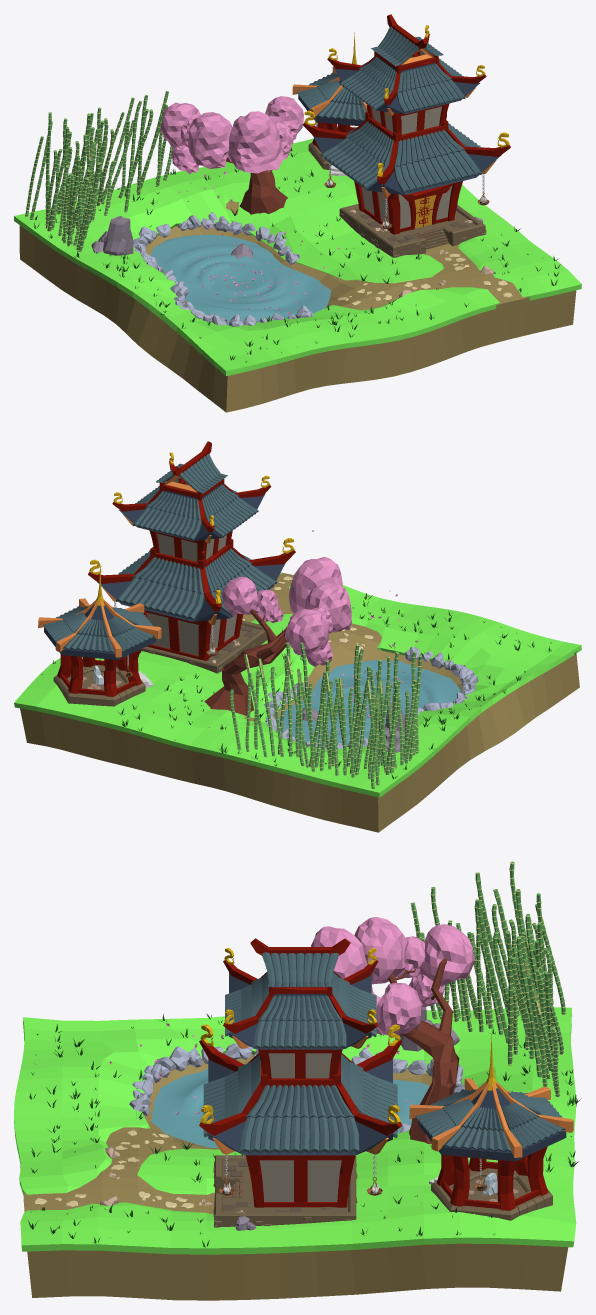
The model's file is temple.fbx.
3 renders of one model, top to bottom at view 1: azimuth 30°, elevation 25°; view 2: azimuth 150°, elevation 25°; view 3: azimuth 270°, elevation 25°, orthographic. The views are drawn at different scales.
Visible parts, largest first — view 1: Plane, Plane.002, Circle, Icosphere.007, Cube.026, Plane.001, Cube.027, Cube.041, Cube.025, Circle.010, arvore, Cube.009 (+6 smaller); view 2: Plane, Plane.002, Icosphere.007, Cube.026, Plane.001, Circle, Cube.027, Circle.010, arvore, Circle.005, Cube.041, Circle.004 (+8 smaller); view 3: Plane, Plane.002, Cube.026, Plane.001, Icosphere.007, Cube.027, Circle.010, Circle, Cube.025, Circle.005, arvore, Cube.009 (+14 smaller).
Part boxes in pixels (x1,y1,x2,y2): Plane: [14, 127, 581, 376]; Plane.002: [19, 200, 576, 412]; Circle: [150, 234, 331, 325]; Icosphere.007: [160, 96, 303, 174]; Cube.026: [320, 121, 481, 193]; Plane.001: [303, 14, 510, 234]; Cube.027: [339, 57, 465, 113]; Cube.041: [133, 212, 313, 326]; Cube.025: [339, 204, 485, 257]; Circle.010: [296, 72, 365, 121]; arvore: [226, 157, 287, 214]; Cube.009: [313, 135, 501, 194]; Plane: [14, 573, 581, 797]; Plane.002: [20, 572, 579, 832]; Icosphere.007: [222, 556, 351, 666]; Cube.026: [116, 548, 277, 620]; Plane.001: [88, 441, 295, 660]; Circle: [279, 660, 460, 748]; Cube.027: [132, 484, 258, 540]; Circle.010: [43, 606, 154, 652]; arvore: [204, 609, 289, 715]; Circle.005: [57, 649, 141, 696]; Cube.041: [263, 646, 478, 749]; Circle.004: [53, 664, 145, 706]; Plane: [14, 1007, 576, 1254]; Plane.002: [20, 1054, 568, 1300]; Cube.026: [203, 1054, 397, 1153]; Plane.001: [199, 938, 402, 1207]; Icosphere.007: [311, 917, 474, 1035]; Cube.027: [225, 972, 376, 1048]; Circle.010: [415, 1089, 565, 1152]; Circle: [151, 1068, 429, 1147]; Cube.025: [214, 1155, 356, 1227]; Circle.005: [436, 1146, 548, 1210]; arvore: [388, 958, 459, 1143]; Cube.009: [208, 1058, 392, 1155].
Size of the model in its own units: 1555 by 1115 by 1555.
